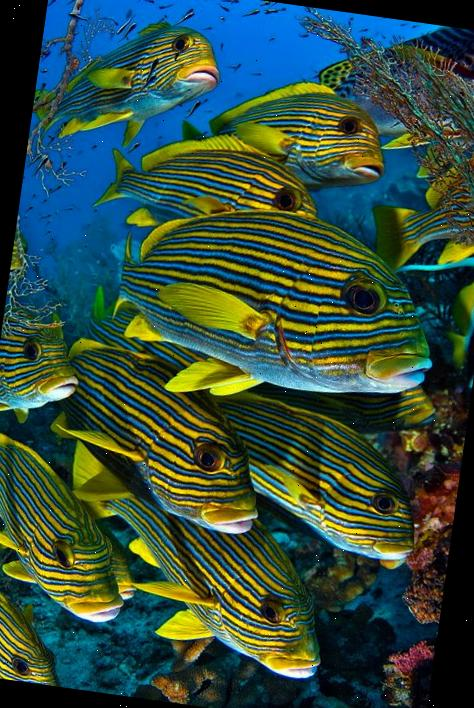fish: (104, 187, 450, 428), (44, 441, 346, 680), (46, 334, 282, 536), (190, 388, 429, 563), (0, 428, 144, 624), (94, 119, 329, 239), (175, 63, 392, 192), (58, 10, 222, 162), (0, 560, 77, 686), (0, 319, 87, 429)
